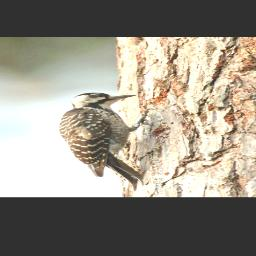Woodpecker: (57, 90, 156, 191)
